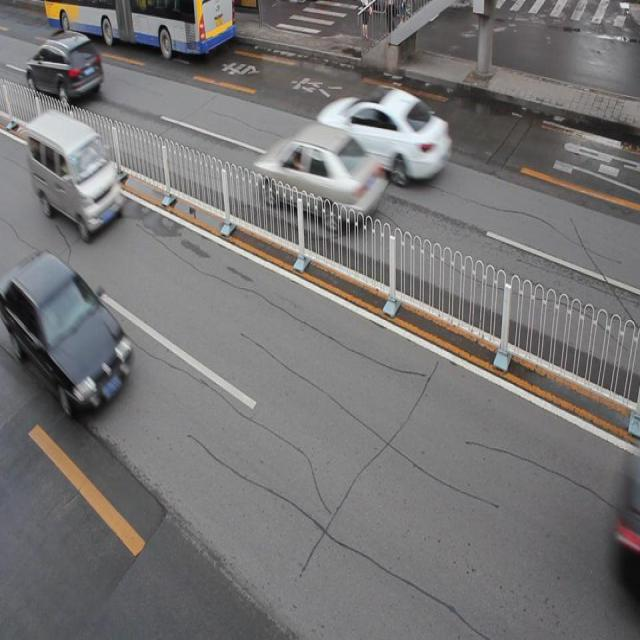car: (1, 251, 131, 407), (252, 121, 385, 227), (316, 82, 448, 182), (25, 32, 104, 102), (614, 451, 640, 585)
truck: (25, 108, 123, 235)
van: (46, 1, 236, 55)
